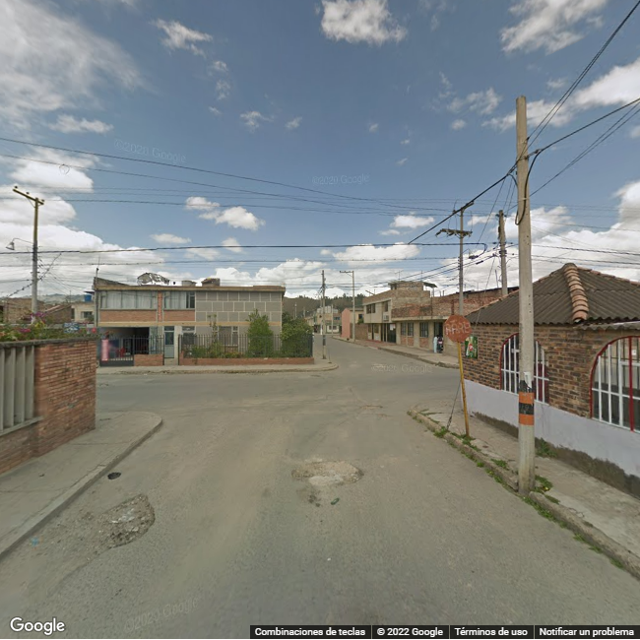D40: (100, 487, 149, 545), (286, 455, 363, 485)
